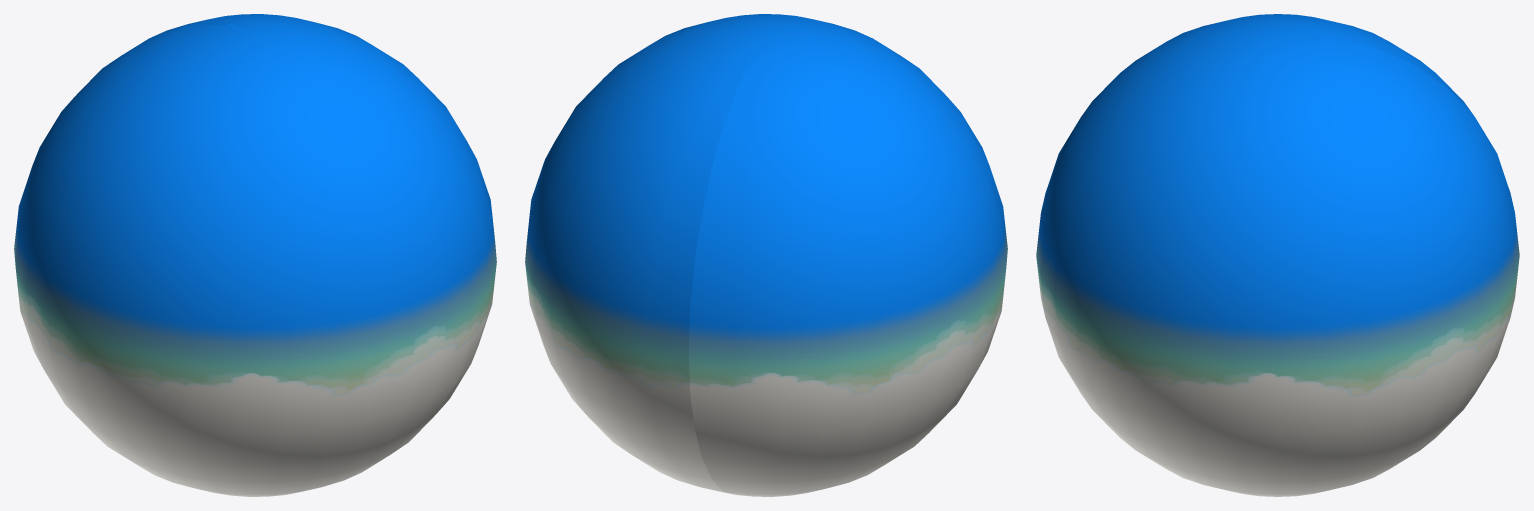
The model's file is 卡通城市3D模型.FBX.
3 views of the same model, side by side, from view 1: azimuth 30°, elevation 25°; view 2: azimuth 150°, elevation 25°; view 3: azimuth 270°, elevation 25° (orthographic).
Parts seen in each view (by area): view 1: Object002; view 2: Object002; view 3: Object002.
Part boxes in pixels (x1,y1,x2,y2): Object002: (14, 14, 496, 496); Object002: (525, 14, 1007, 496); Object002: (1036, 14, 1519, 496).
Size of the model in its own units: 10540 by 10540 by 10540.
4 materials, 4 textured.
